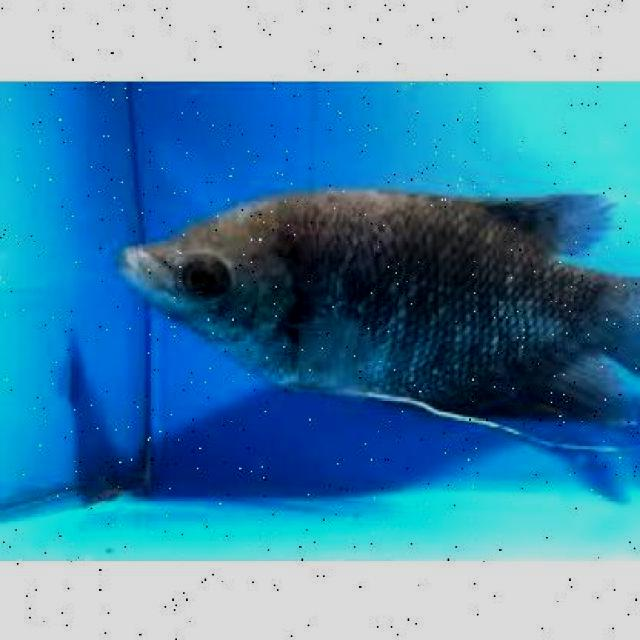gurame: (120, 170, 640, 468)
